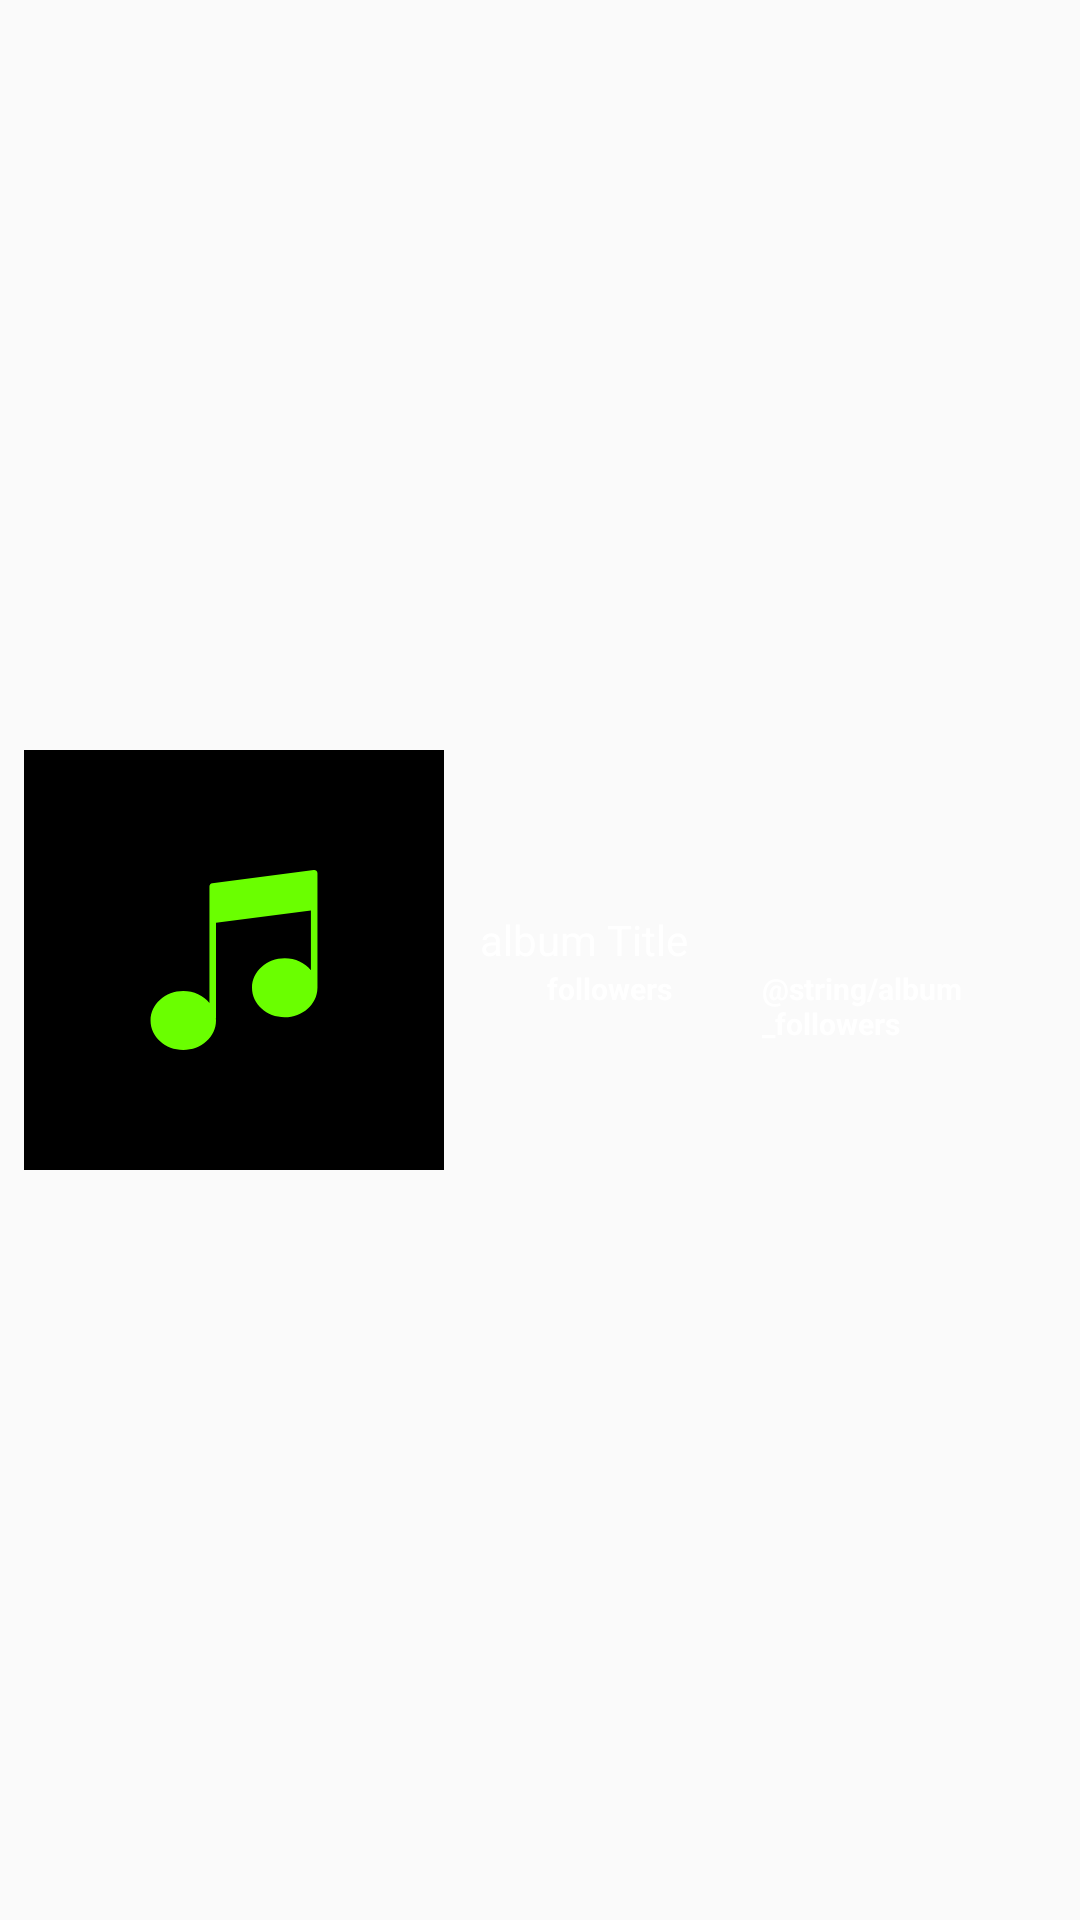

Locate icon controls on the screen. Image size 1080x1920, boxes as [left=x1, top=y1, right=x2, bottom=y2].
album: [left=150, top=870, right=318, bottom=1050]
